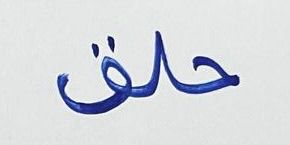hah: (183, 49, 242, 99)
lam: (139, 28, 180, 107)
qaf: (54, 33, 137, 118)
